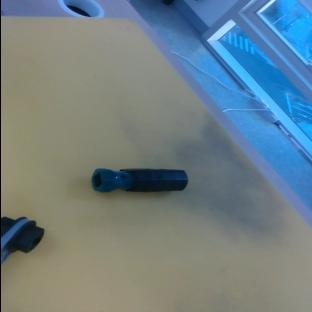part_1_bad: (0, 217, 43, 264)
part_2_bad: (90, 168, 186, 193)
